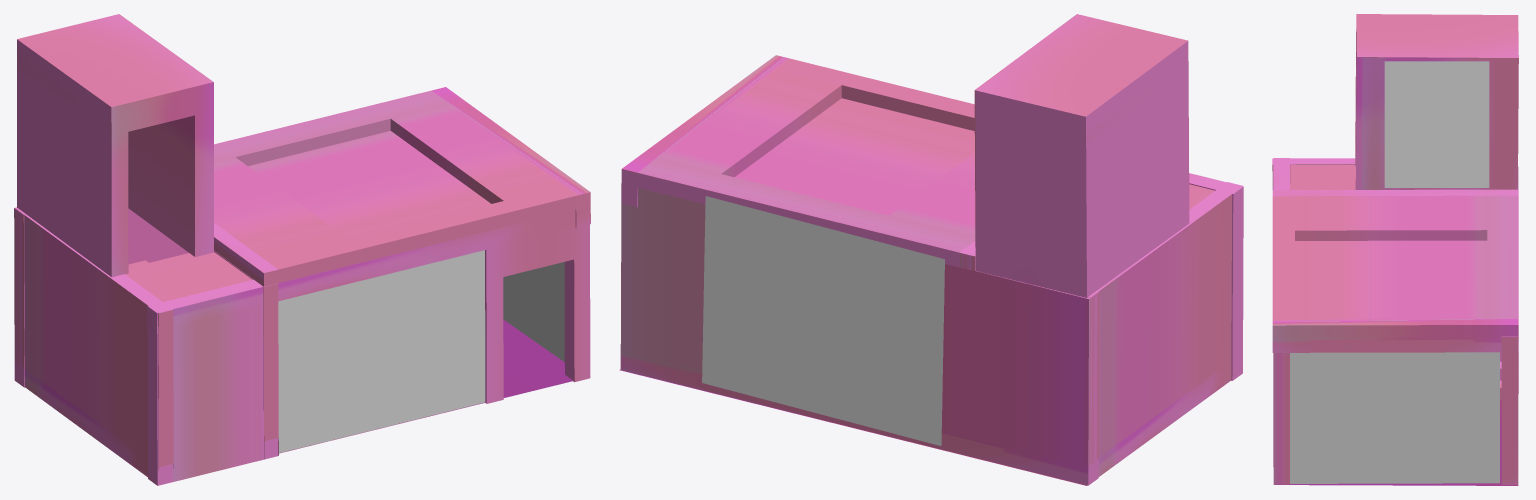
Rendered from cpimpbrothel.glb.
3 renders of one model, left to right at view 1: azimuth 30°, elevation 25°; view 2: azimuth 150°, elevation 25°; view 3: azimuth 270°, elevation 25°, orthographic. The views are drawn at different scales.
Parts seen in each view (by area): view 1: Cube, Cube.001, Cube.003, Plane; view 2: Cube; view 3: Cube, Cube.003, Plane.
Part boxes in pixels (left/top/right/bottom): Cube: left=14, top=14, right=590, bottom=485; Cube.001: left=278, top=250, right=485, bottom=452; Cube.003: left=503, top=262, right=564, bottom=361; Plane: left=125, top=319, right=572, bottom=476; Cube: left=620, top=14, right=1243, bottom=485; Cube: left=1272, top=14, right=1518, bottom=484; Cube.003: left=1290, top=352, right=1499, bottom=483; Plane: left=1275, top=352, right=1518, bottom=485.
Size of the model in its own units: 88.19 by 66.46 by 51.17.
Materials: 7 (4 with a texture image).
